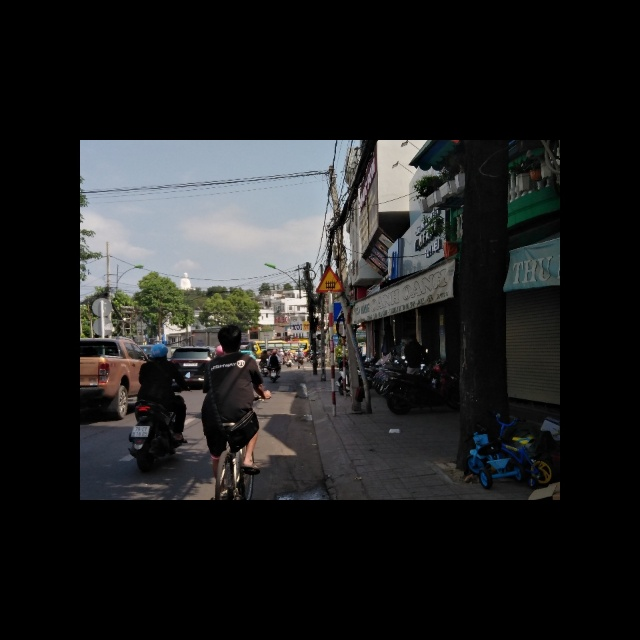Giao nhau với đường sắt có rào chắn: (315, 266, 345, 293)
